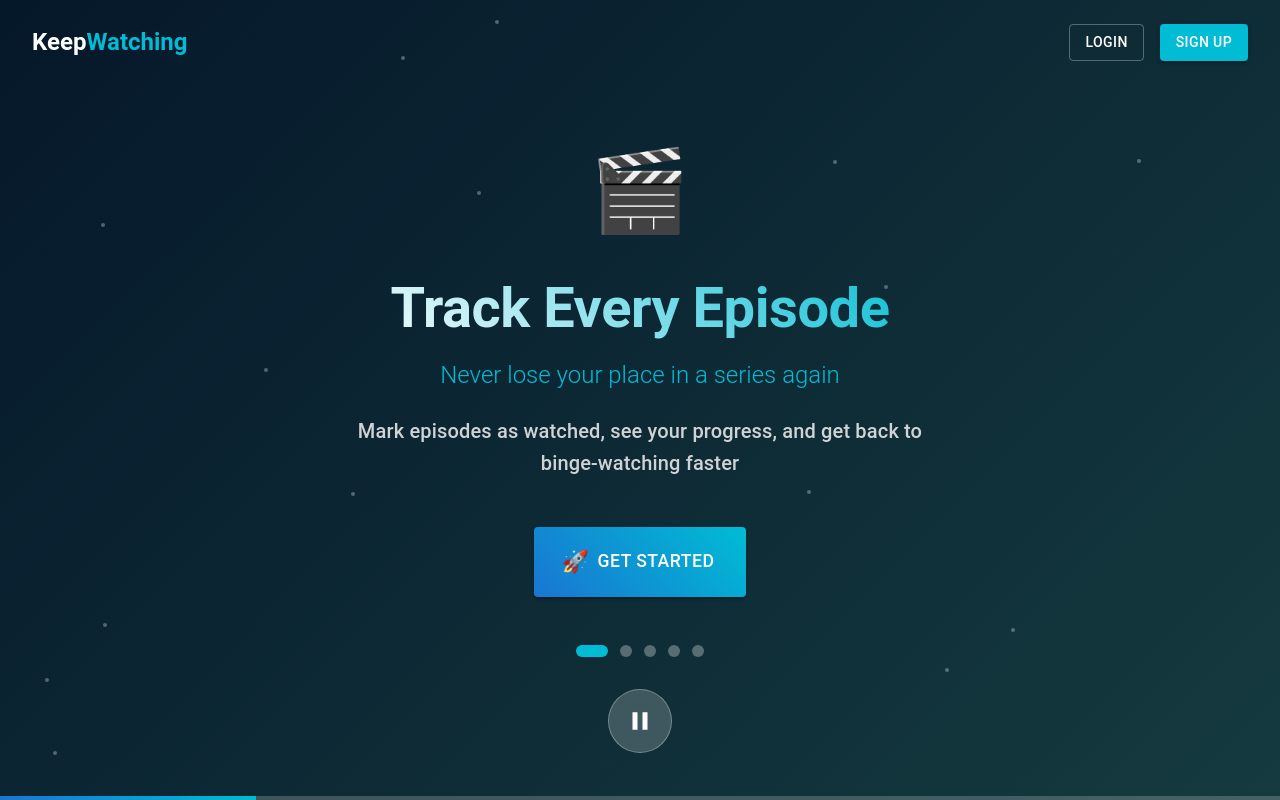
it: EnhancedDefault › edge cases › should handle rapid slide indicator clicks
The width and height of the screenshot is (1280, 800).
Note: Click multiple slide indicators rapidly
Click the 2nd button at [626, 651], box [620,645,632,657]
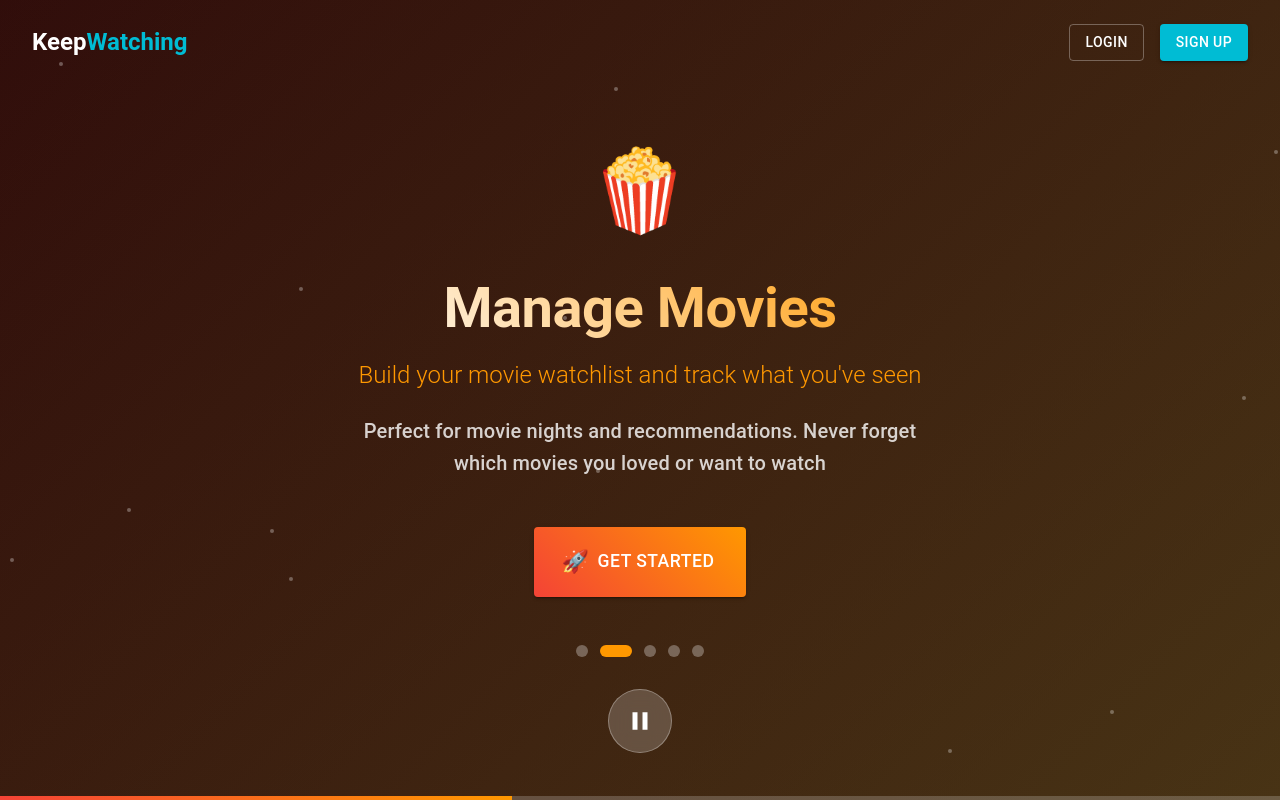
Click the 4th button at [674, 651], box [668,645,680,657]
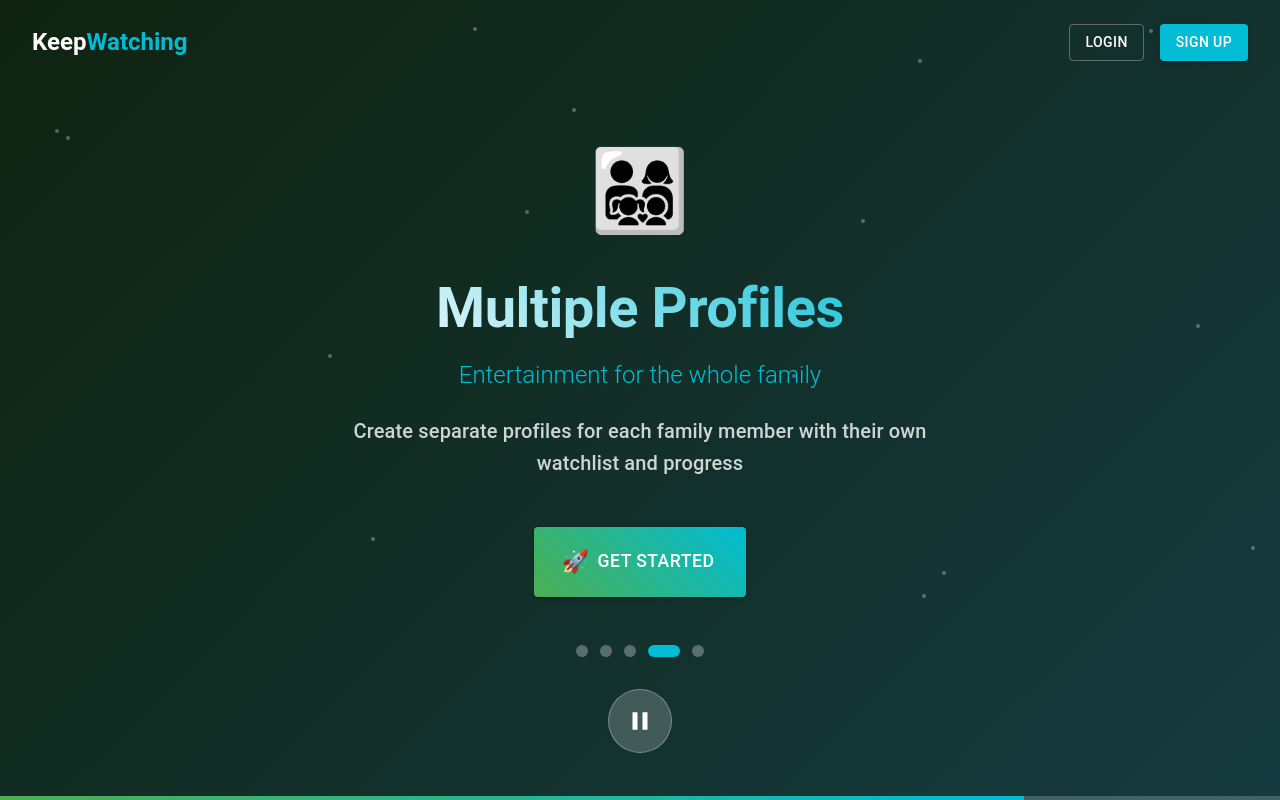
Click the 1st button at [582, 651], box [576,645,588,657]
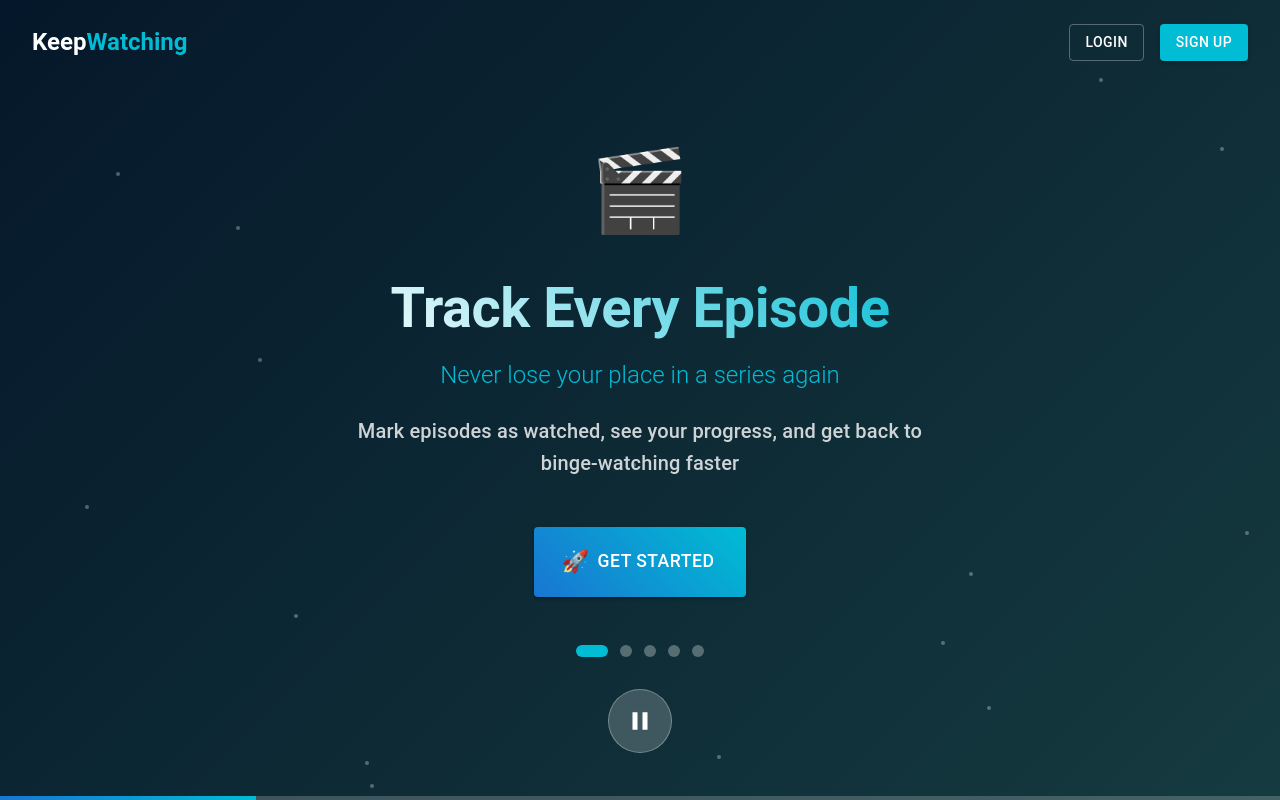
Expected: the heading "Track Every Episode" is shown, [340,275,940,343]
